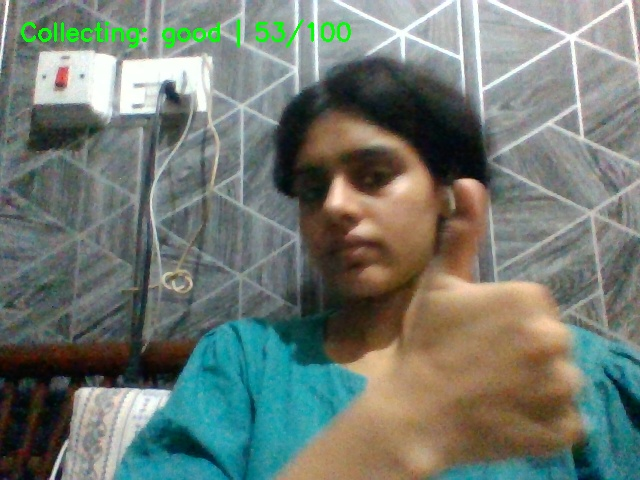good: (384, 158, 618, 480)
